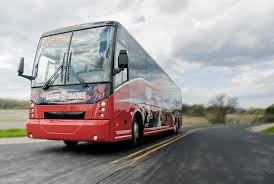bus: (17, 20, 183, 148)
